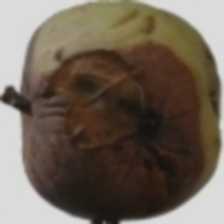apple: (44, 37, 181, 203)
